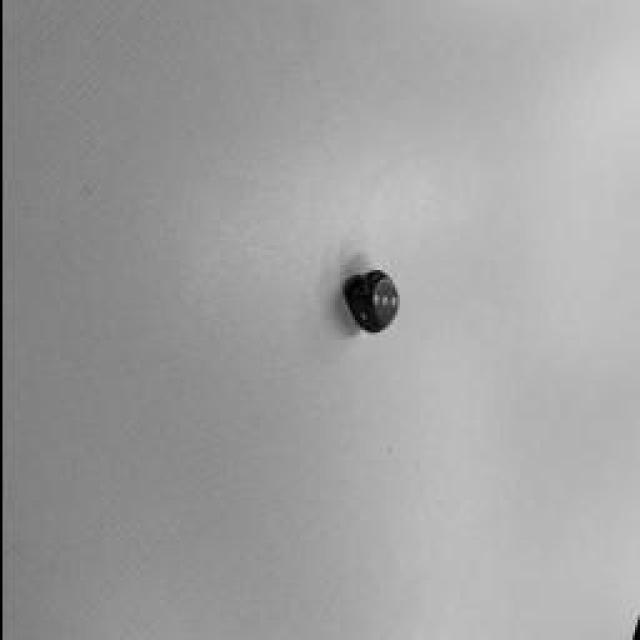dice_3: (372, 280, 396, 325)
